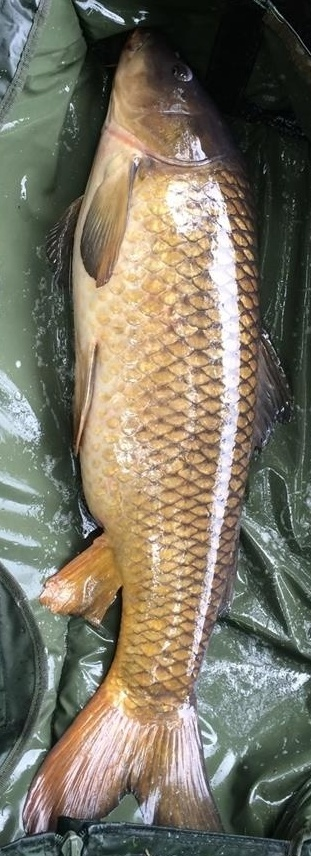Cyprinus carpio: (20, 20, 291, 836)
